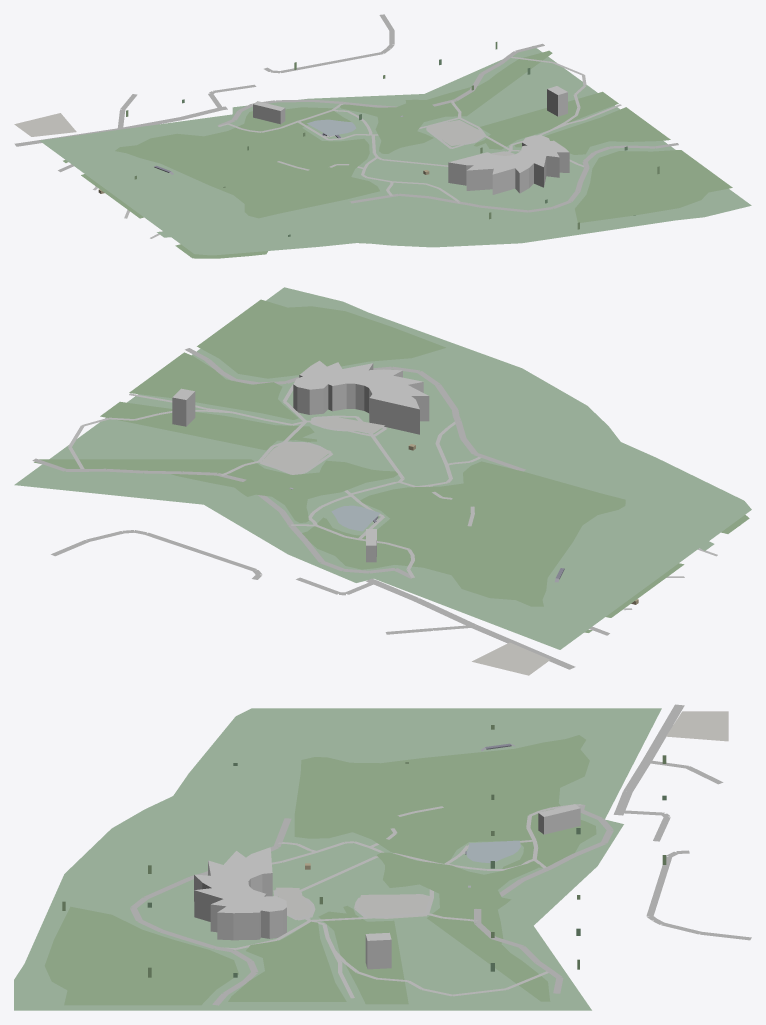
3 views of the same model, one above another, from view 1: azimuth 30°, elevation 25°; view 2: azimuth 150°, elevation 25°; view 3: azimuth 270°, elevation 25° (orthographic). The views are drawn at different scales.
Size of the model in its own units: 522 by 37.74 by 516.
